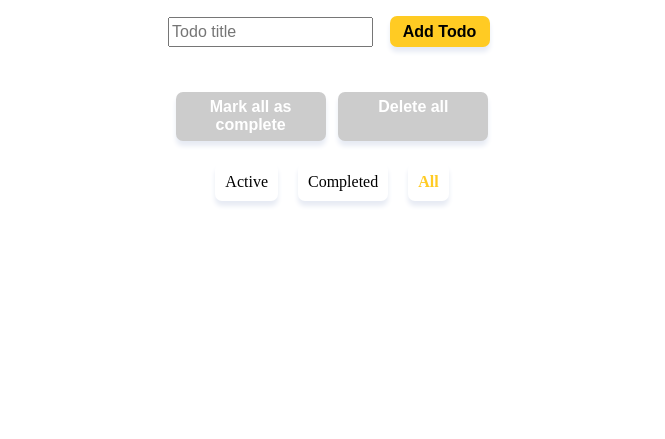
add new todo item
The image size is (665, 439).
Type "New title" into the field with test id "input-title" at [270, 32], box 168,17 -> 373,47
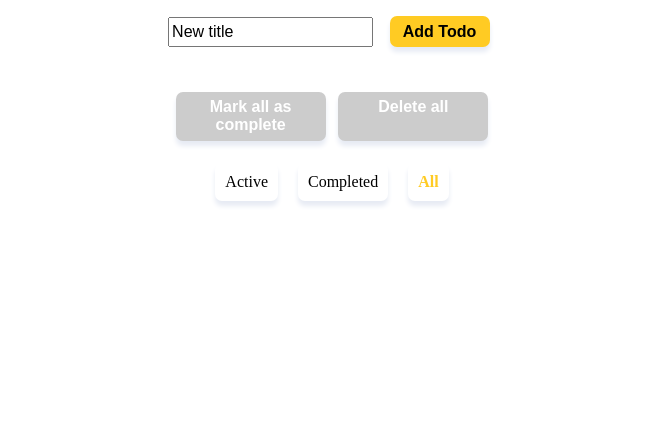
Click the button "Add Todo" at [440, 32], box 390,16 -> 490,47
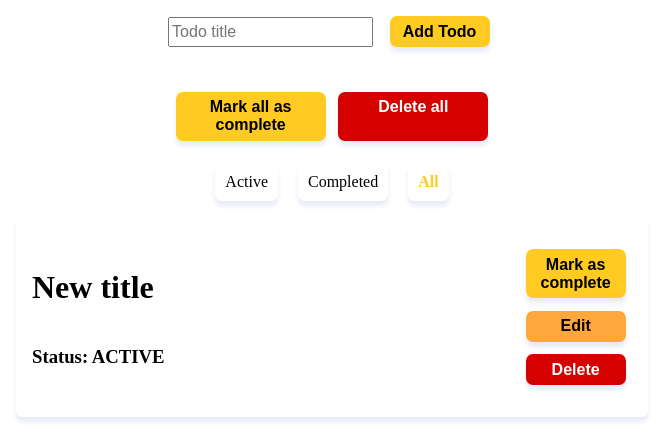
expect the button "Edit" is shown: met, box 526,311 -> 626,342
